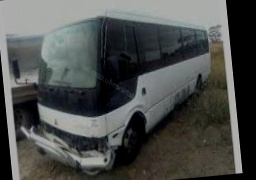bus: (22, 2, 221, 178)
